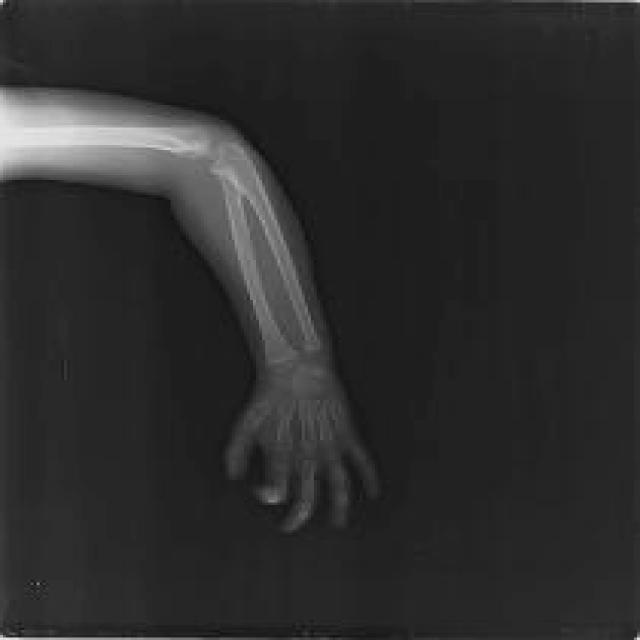normal: (0, 125, 382, 533)
